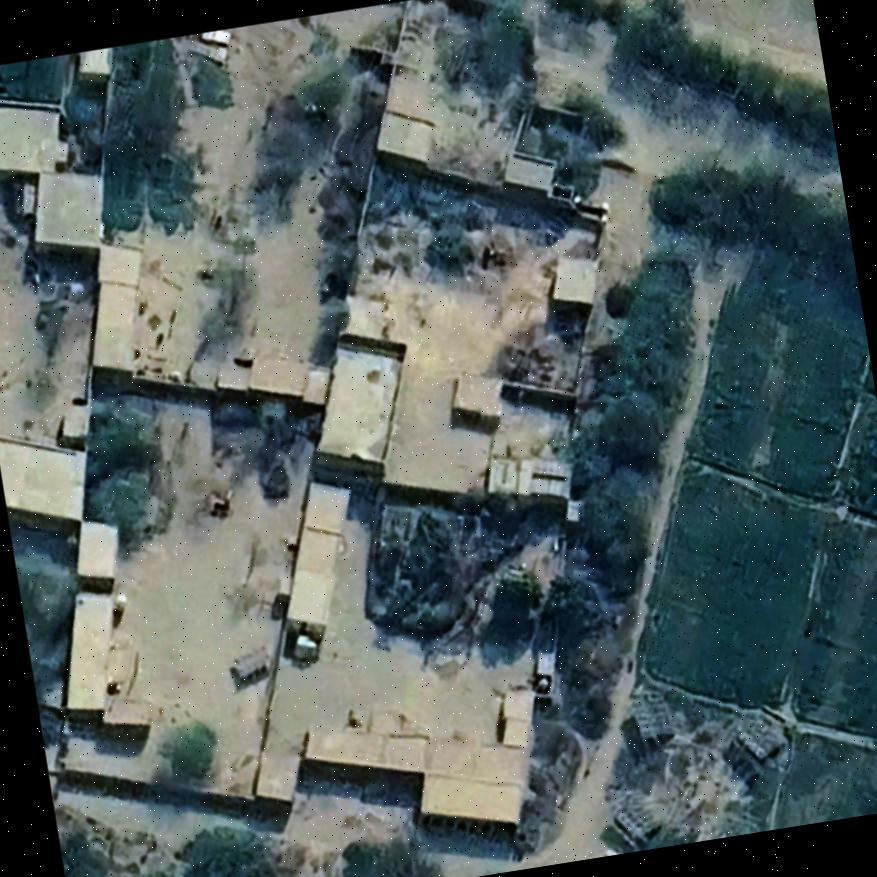Solarpanel: (232, 646, 269, 680)
